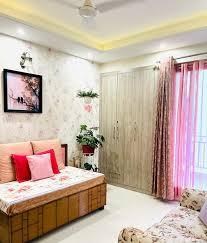bed: (0, 144, 116, 238)
fan: (56, 0, 134, 34)
light: (154, 39, 170, 57), (11, 22, 26, 40), (83, 51, 97, 65)
sofa: (117, 182, 207, 243)
